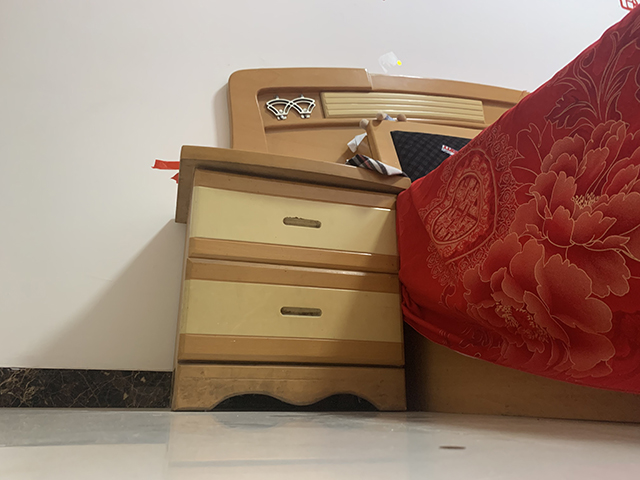bed: (226, 1, 640, 426)
cabinet: (169, 144, 412, 414)
